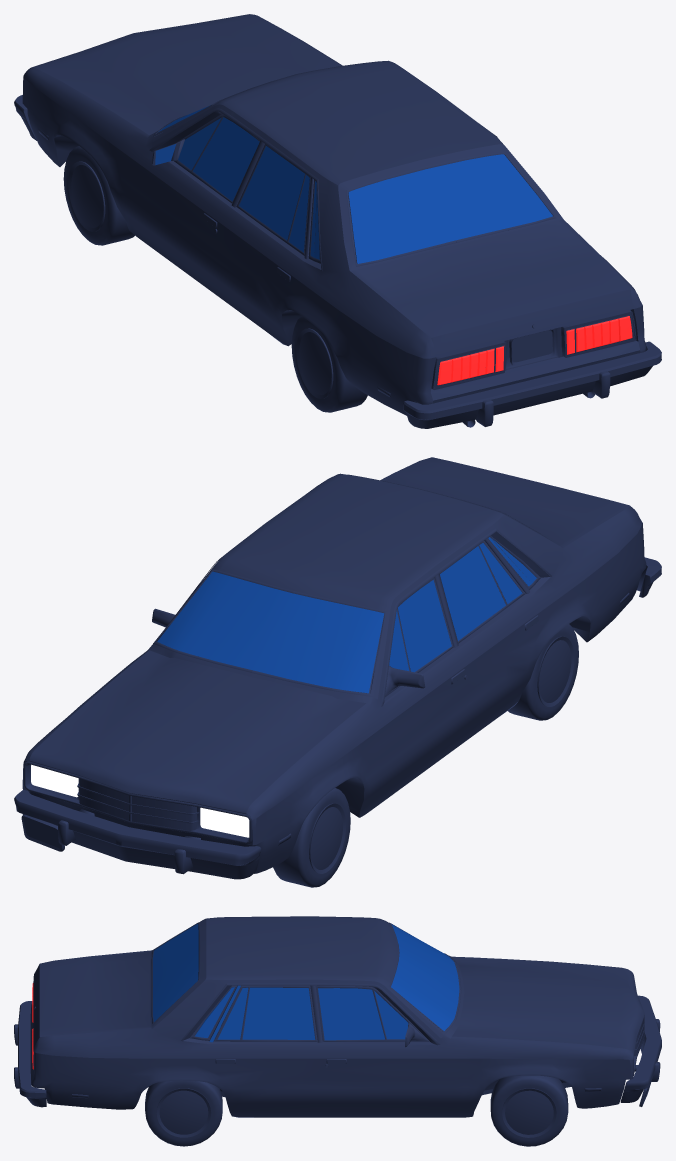
Rendered from MainCar.glb.
3 views of the same model, one above another, from view 1: azimuth 30°, elevation 25°; view 2: azimuth 150°, elevation 25°; view 3: azimuth 270°, elevation 25° (orthographic). The views are drawn at different scales.
Visible parts, largest first — view 1: Main.001, Main.005, wheel 4, wheel 3; view 2: Main.001, Main.005, wheel 4, wheel 3; view 3: Main.001, Main.005, wheel 2, wheel 1.
Part boxes in pixels (box(x1,y1,x2,y2)): Main.001: box(14, 14, 661, 428); Main.005: box(155, 105, 632, 385); wheel 4: box(63, 146, 134, 245); wheel 3: box(291, 316, 367, 412); Main.001: box(14, 457, 661, 879); Main.005: box(31, 537, 536, 837); wheel 4: box(273, 788, 350, 887); wheel 3: box(508, 624, 578, 720); Main.001: box(14, 916, 661, 1117); Main.005: box(32, 924, 459, 1069); wheel 2: box(490, 1075, 568, 1146); wheel 1: box(145, 1080, 222, 1146).
Size of the model in its own units: 9.08 by 6.78 by 24.78.
